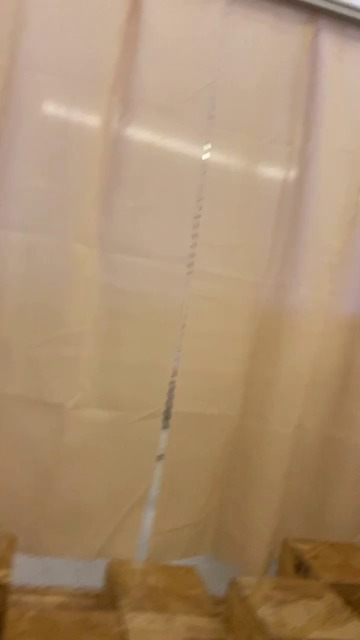curtain: (0, 0, 360, 570)
